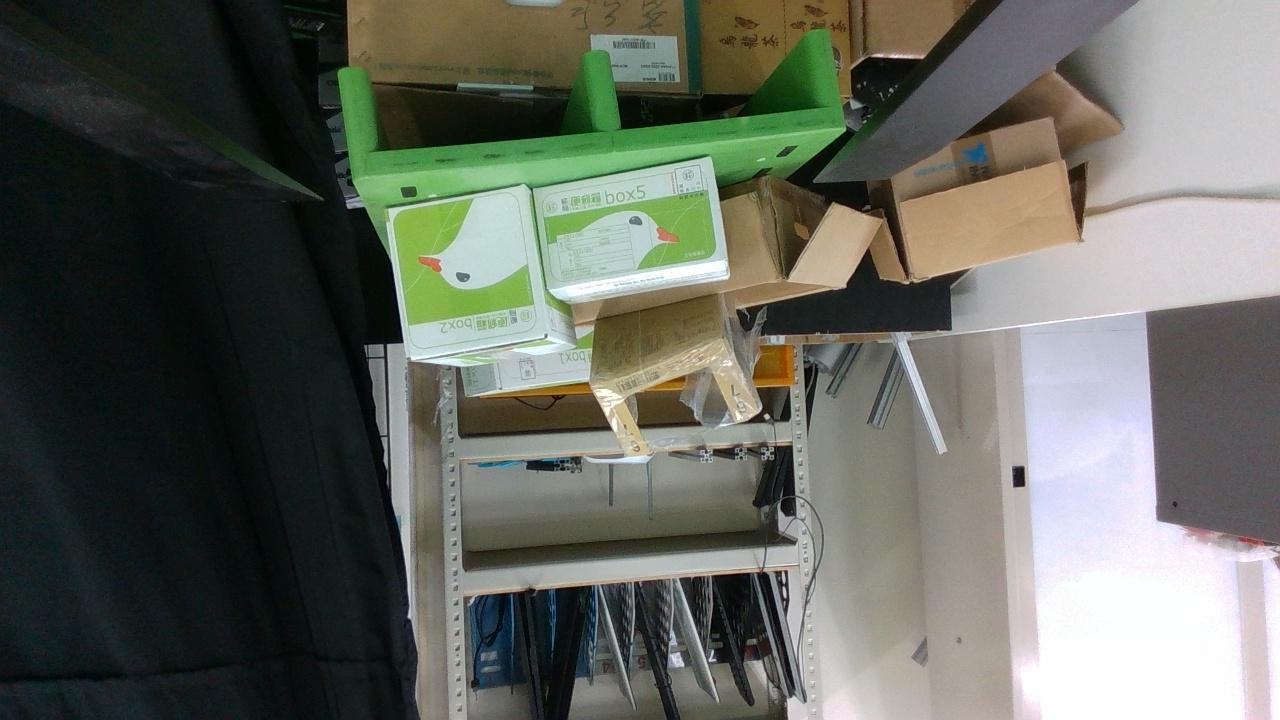Pallet: (336, 30, 843, 180)
